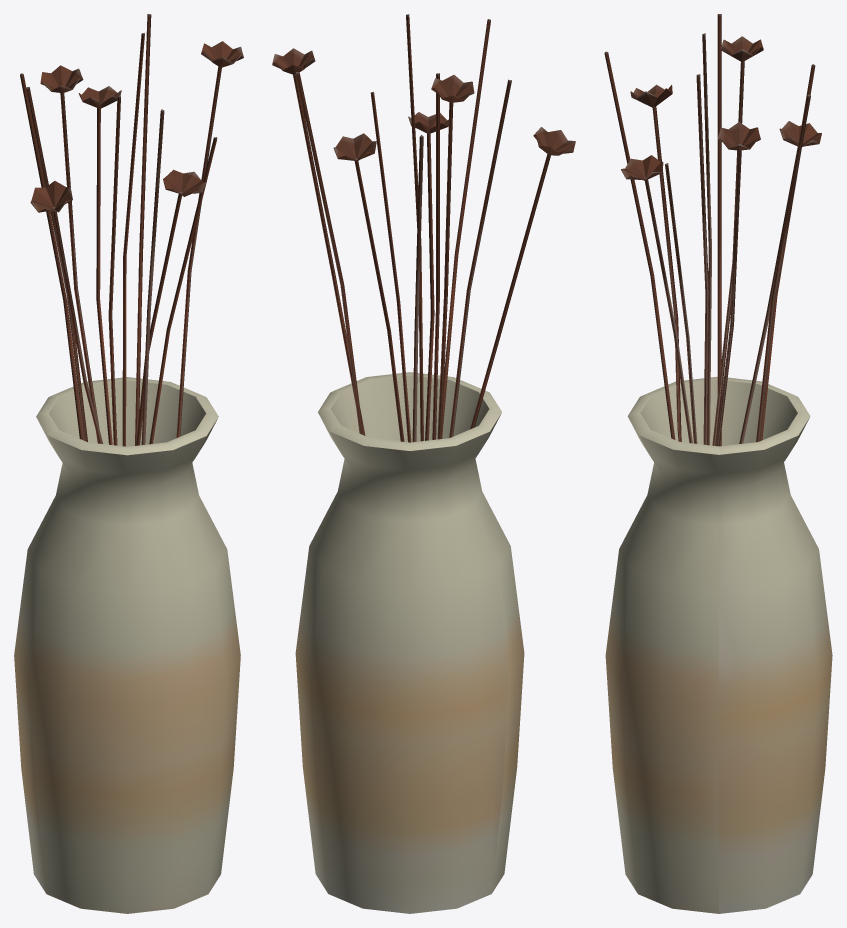
File: FP_Vase_B.FBX
3 renders of one model, left to right at view 1: azimuth 30°, elevation 25°; view 2: azimuth 150°, elevation 25°; view 3: azimuth 270°, elevation 25°, orthographic.
Visible parts, largest first — view 1: FP_Vase_B; view 2: FP_Vase_B; view 3: FP_Vase_B.
Boxes of the visible parts, x1,y1,x2,y2 form: FP_Vase_B: [14, 14, 243, 913]; FP_Vase_B: [272, 14, 575, 913]; FP_Vase_B: [604, 14, 832, 913].
Bounding box in the file's own units: 17.06 × 54.59 × 13.36.
